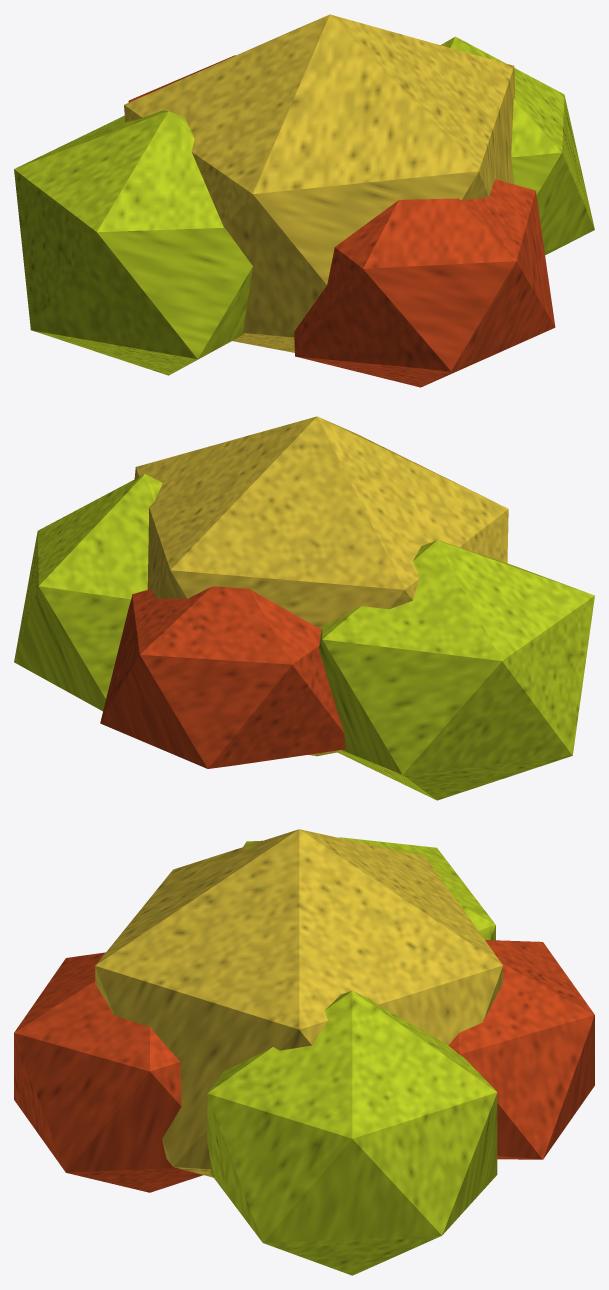
Rendered from bush.glb.
3 renders of one model, top to bottom at view 1: azimuth 30°, elevation 25°; view 2: azimuth 150°, elevation 25°; view 3: azimuth 270°, elevation 25°, orthographic. The views are drawn at different scales.
Visible parts, largest first — view 1: Bush_Foliage; view 2: Bush_Foliage; view 3: Bush_Foliage.
Part boxes in pixels (<box>): Bush_Foliage: <box>14,14,594,387</box>; Bush_Foliage: <box>14,416,594,800</box>; Bush_Foliage: <box>14,829,594,1275</box>.
Size of the model in its own units: 1.26 by 0.7689 by 1.09.
3 materials, 3 textured.
